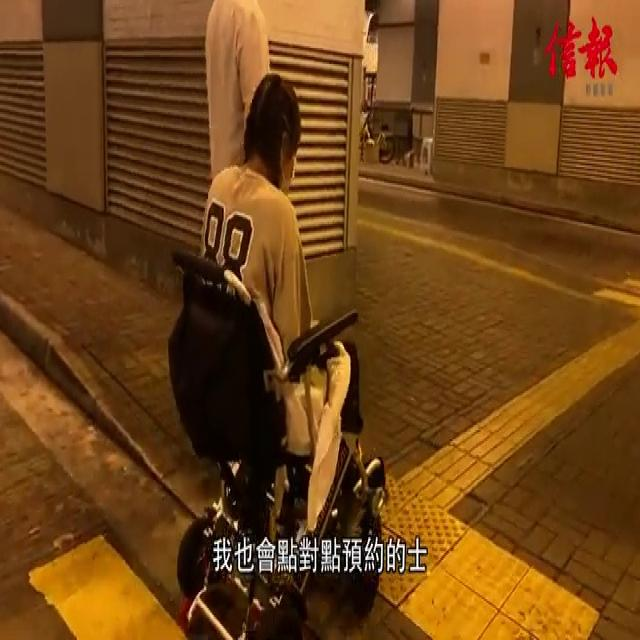wheelchairs: (162, 240, 393, 640)
